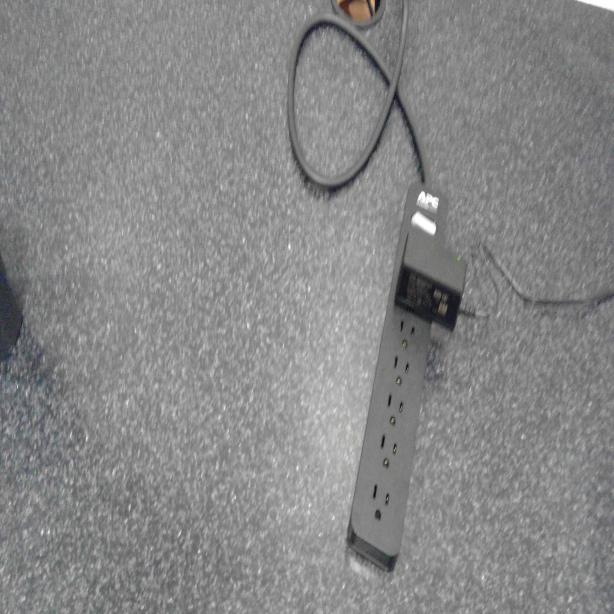typeb: (366, 483, 396, 526), (375, 429, 402, 470), (381, 389, 408, 429), (393, 312, 420, 352), (391, 356, 413, 390)
